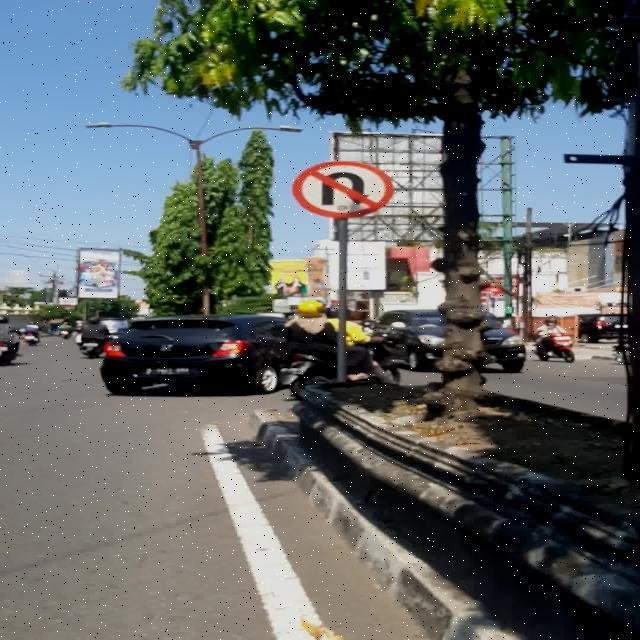Dilarang Putar Balik: (292, 162, 392, 218)
